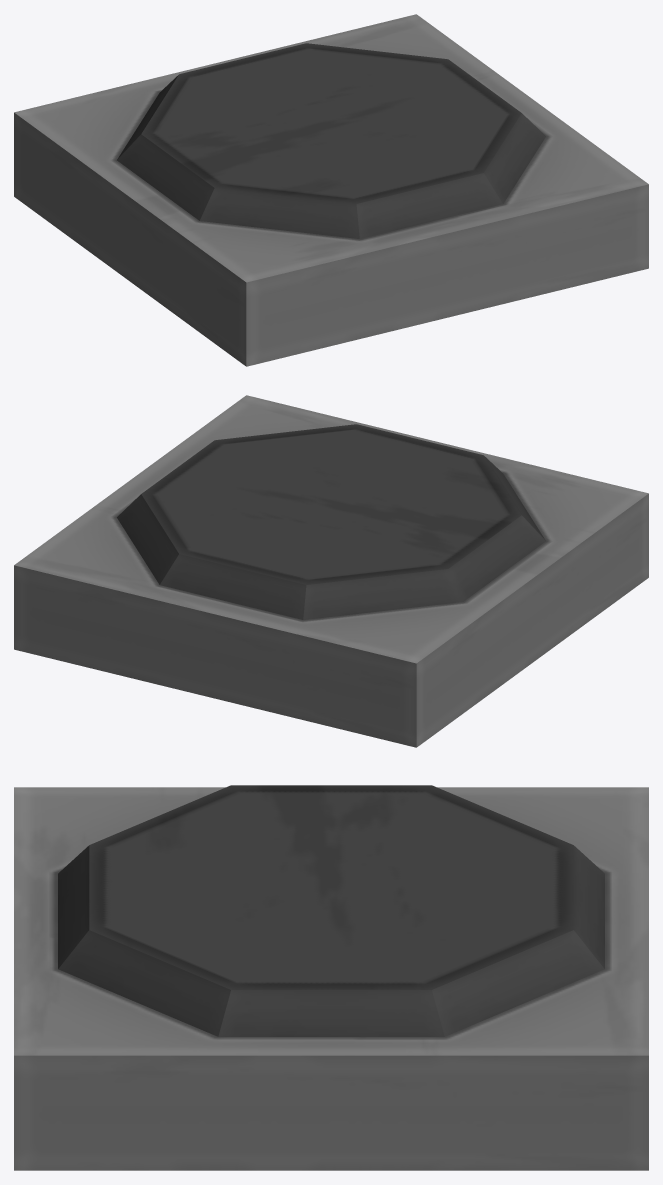
Rendered from obj_interactive_button_on.fbx.
3 views of the same model, one above another, from view 1: azimuth 30°, elevation 25°; view 2: azimuth 150°, elevation 25°; view 3: azimuth 270°, elevation 25° (orthographic). The views are drawn at different scales.
Visible parts, largest first — view 1: obj_interactive_button_on_lod0; view 2: obj_interactive_button_on_lod0; view 3: obj_interactive_button_on_lod0.
Boxes of the visible parts, x1,y1,x2,y2 form: obj_interactive_button_on_lod0: (14,14,648,366); obj_interactive_button_on_lod0: (14,395,648,747); obj_interactive_button_on_lod0: (14,785,648,1170).
Size of the model in its own units: 1 by 0.2864 by 1.
1 material, 1 textured.
